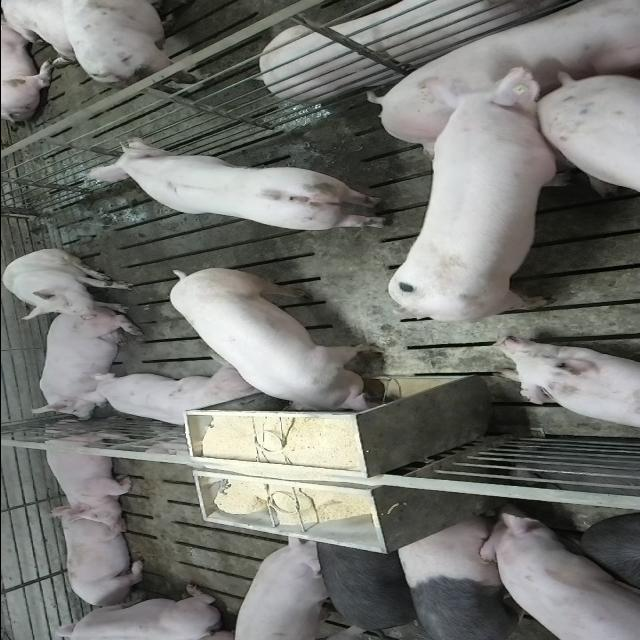Feeding: (166, 272, 386, 420)
Lateral_lying: (368, 0, 639, 156), (258, 0, 612, 103)
Sitting: (2, 248, 136, 320)
Standing: (379, 66, 568, 322), (87, 136, 397, 234), (472, 504, 640, 638), (393, 512, 569, 638), (530, 69, 638, 215), (67, 0, 224, 98), (310, 533, 420, 638), (230, 532, 338, 636)
Sternal_lying: (492, 337, 640, 433), (27, 312, 135, 422), (81, 368, 263, 430), (40, 584, 228, 638), (37, 426, 135, 525), (51, 512, 147, 610)
